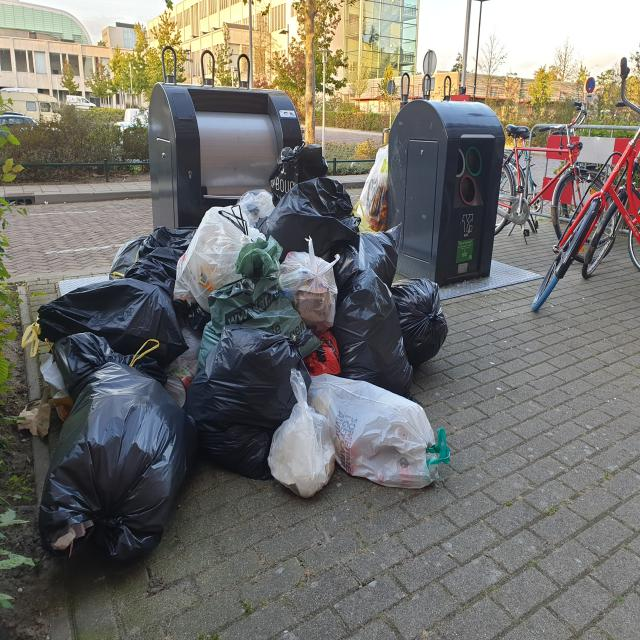plastic_bag: (37, 385, 198, 559), (187, 347, 301, 476), (311, 376, 446, 474), (62, 274, 175, 374), (334, 259, 418, 376), (182, 206, 264, 289), (271, 407, 349, 483), (269, 188, 350, 258), (402, 286, 463, 367), (288, 148, 343, 192)
